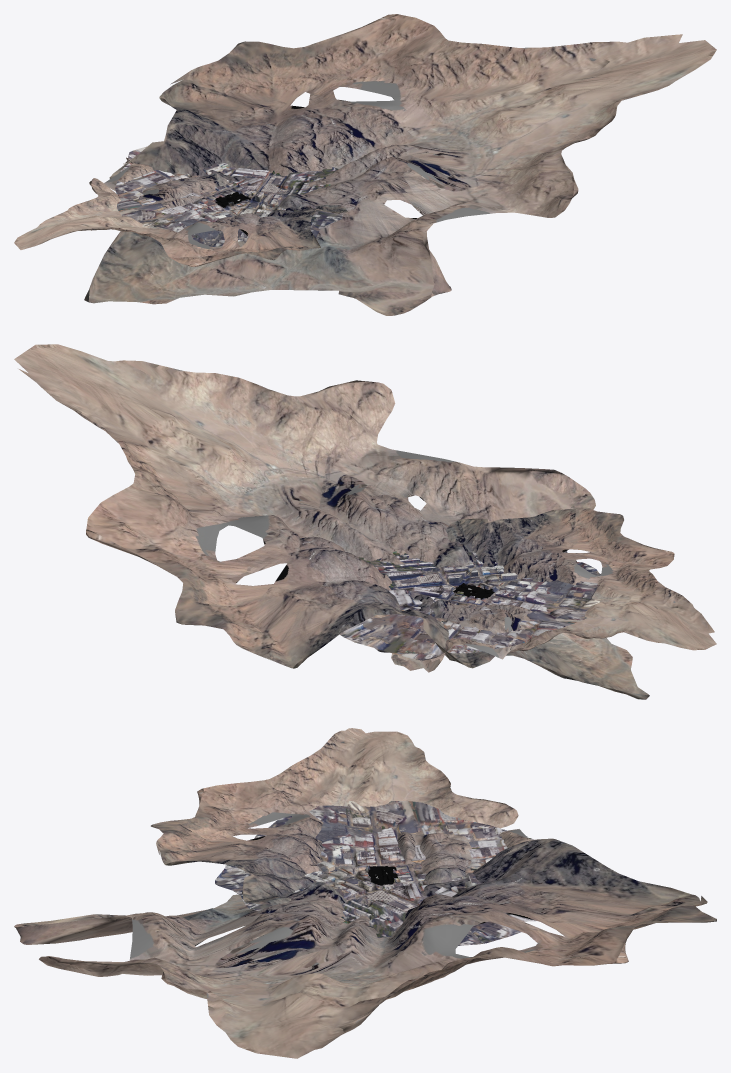
File: ElsewhereScene.fbx
3 views of the same model, one above another, from view 1: azimuth 30°, elevation 25°; view 2: azimuth 150°, elevation 25°; view 3: azimuth 270°, elevation 25° (orthographic). The views are drawn at different scales.
Visible parts, largest first — view 1: MOUNTAINS, sainai:Mesh, elsewhere_Mesh; view 2: MOUNTAINS, sainai:Mesh, elsewhere_Mesh; view 3: MOUNTAINS, sainai:Mesh, elsewhere_Mesh.
Part boxes in pixels (x1=…): MOUNTAINS: x1=84, y1=14, x2=716, y2=315; sainai:Mesh: x1=14, y1=157, x2=347, y2=266; elsewhere_Mesh: x1=115, y1=146, x2=342, y2=246; MOUNTAINS: x1=14, y1=344, x2=649, y2=699; sainai:Mesh: x1=391, y1=507, x2=716, y2=672; elsewhere_Mesh: x1=340, y1=543, x2=600, y2=660; MOUNTAINS: x1=14, y1=838, x2=716, y2=1058; sainai:Mesh: x1=151, y1=728, x2=530, y2=905; elsewhere_Mesh: x1=215, y1=801, x2=535, y2=945.
Bounding box in the file's own units: 212 × 43.38 × 149.
